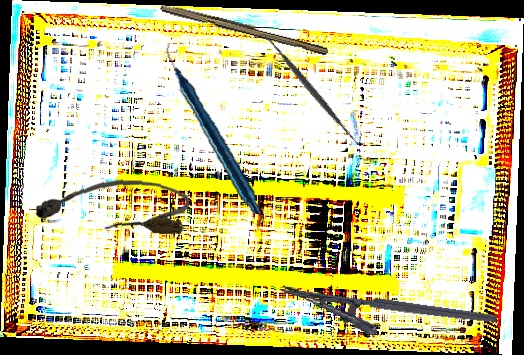Cannula: (34, 175, 191, 235)
Handpiece: (147, 42, 281, 215)
Needle Holder: (276, 283, 498, 353)
Scalpel Handle: (158, 1, 331, 56)
Spatula Surgical: (255, 25, 366, 153)
